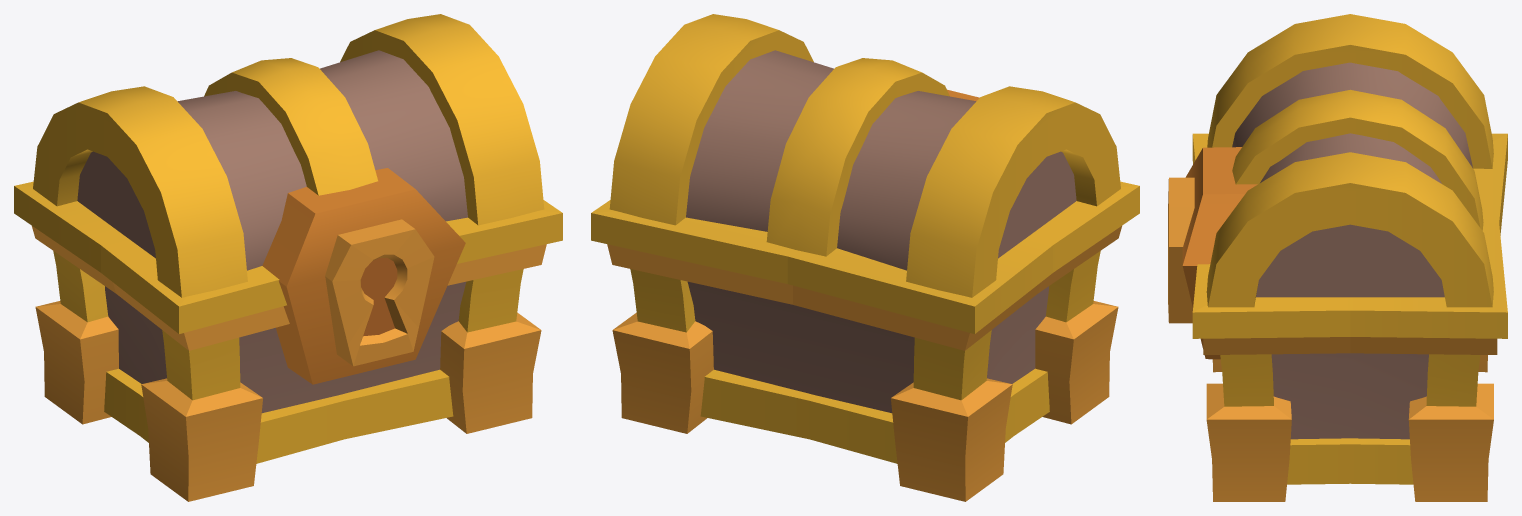
Rendered from SM_Rewards_ChestGold.fbx.
3 views of the same model, side by side, from view 1: azimuth 30°, elevation 25°; view 2: azimuth 150°, elevation 25°; view 3: azimuth 270°, elevation 25° (orthographic). The views are drawn at different scales.
Visible parts, largest first — view 1: SM_Rewards_ChestGold; view 2: SM_Rewards_ChestGold; view 3: SM_Rewards_ChestGold.
Boxes of the visible parts, x1=… form: SM_Rewards_ChestGold: x1=14, y1=14, x2=562, y2=501; SM_Rewards_ChestGold: x1=591, y1=14, x2=1139, y2=501; SM_Rewards_ChestGold: x1=1168, y1=14, x2=1507, y2=501.
Size of the model in its own units: 71.89 by 61.15 by 57.71.
